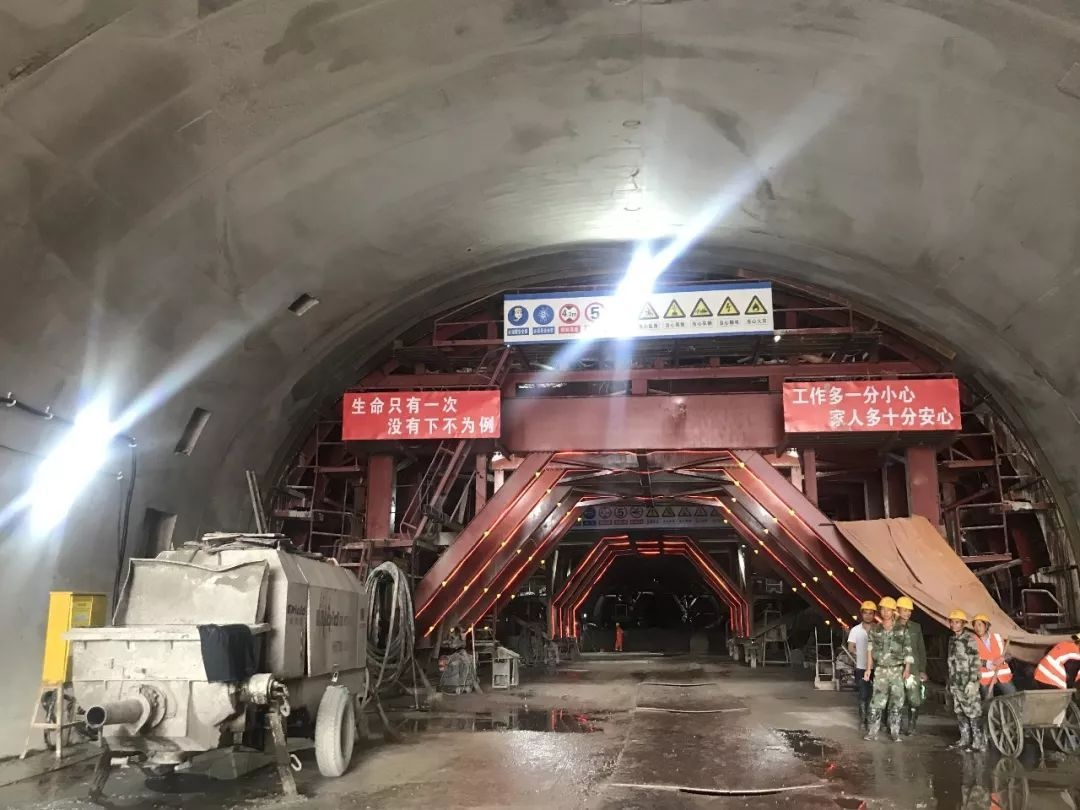yellow: (876, 594, 896, 621), (947, 609, 968, 633), (895, 595, 914, 620), (971, 614, 991, 635), (859, 600, 877, 622)
